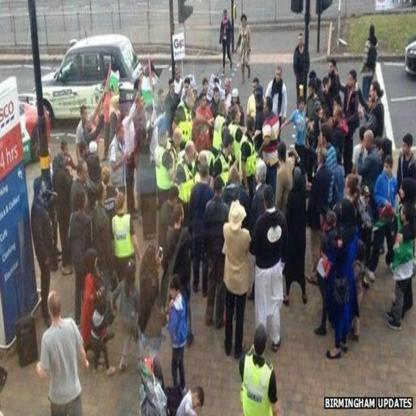face: (40, 180, 47, 196), (401, 207, 407, 221), (371, 85, 377, 99), (194, 394, 200, 407), (189, 149, 195, 162), (103, 183, 108, 198), (199, 156, 204, 171), (171, 286, 177, 298), (400, 186, 406, 197), (226, 81, 231, 94), (349, 74, 354, 87), (321, 132, 326, 145), (365, 136, 370, 149), (346, 181, 351, 194), (277, 70, 282, 82), (264, 99, 269, 111), (385, 162, 390, 174), (84, 164, 88, 179), (253, 84, 258, 95), (88, 120, 93, 131), (237, 111, 242, 122), (120, 129, 125, 140), (181, 209, 185, 222), (204, 82, 209, 92), (176, 71, 181, 81), (310, 87, 315, 97), (329, 63, 334, 73), (137, 98, 142, 108), (172, 122, 177, 132), (202, 97, 207, 106), (216, 93, 220, 104), (335, 102, 339, 113), (404, 143, 408, 154), (234, 95, 238, 105), (84, 110, 88, 120), (171, 85, 176, 93), (319, 109, 324, 117), (229, 144, 233, 154), (85, 148, 89, 158), (300, 36, 304, 45), (301, 102, 305, 111), (85, 197, 88, 208), (66, 146, 70, 154), (186, 84, 189, 94), (243, 19, 247, 26), (138, 82, 142, 89), (88, 109, 91, 118), (370, 98, 373, 106), (140, 76, 143, 84), (144, 66, 147, 74), (162, 94, 165, 102), (225, 11, 228, 18), (117, 100, 120, 107), (382, 148, 385, 154), (216, 83, 219, 88), (142, 74, 144, 77)
